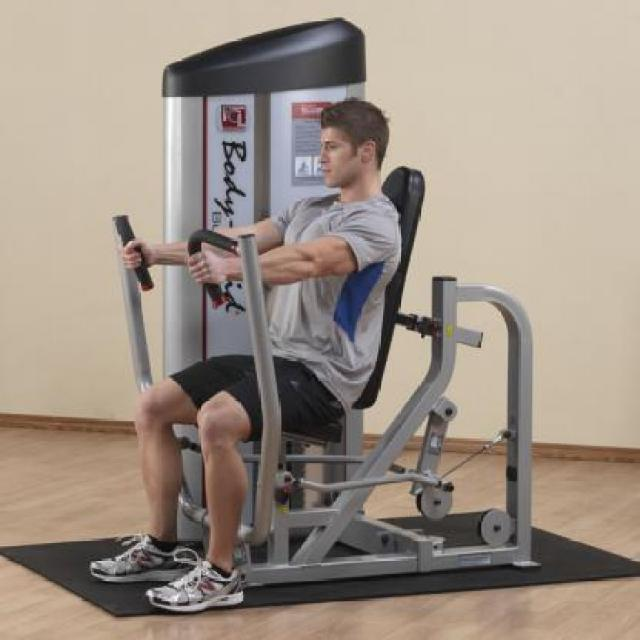Chest Press machine: (74, 15, 558, 617)
